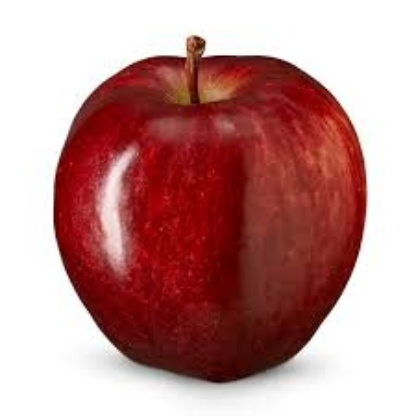tao: (64, 60, 374, 388)
